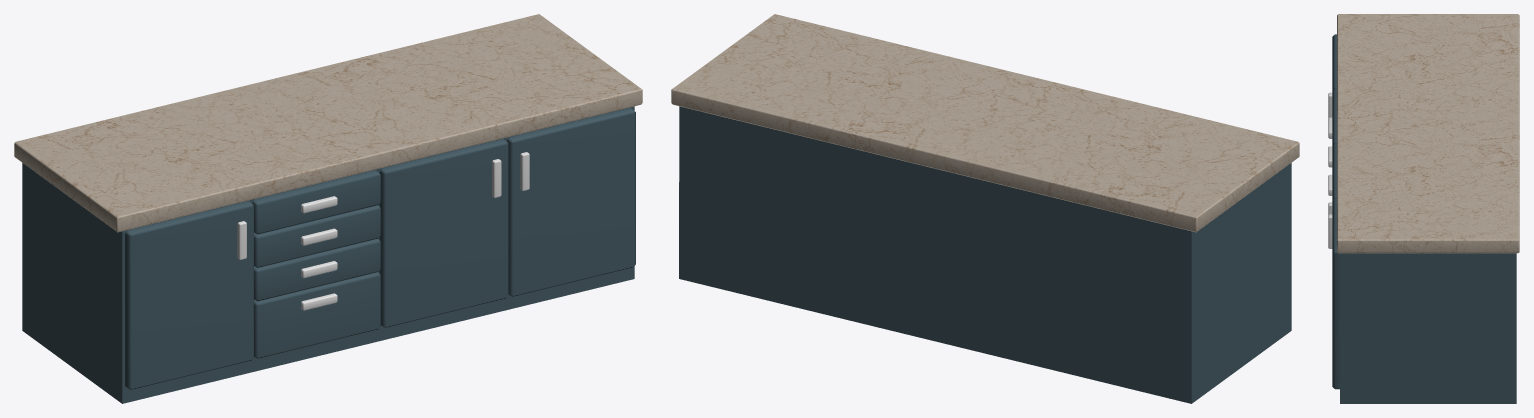
The model's file is kitchen_051.fbx.
3 views of the same model, side by side, from view 1: azimuth 30°, elevation 25°; view 2: azimuth 150°, elevation 25°; view 3: azimuth 270°, elevation 25° (orthographic). The views are drawn at different scales.
Parts seen in each view (by area): view 1: kitchen_051; view 2: kitchen_051; view 3: kitchen_051.
Boxes of the visible parts, bbox=[...] form: kitchen_051: bbox=[14, 14, 642, 403]; kitchen_051: bbox=[671, 14, 1299, 403]; kitchen_051: bbox=[1328, 14, 1519, 403].
Size of the model in its own units: 303 by 108 by 104.
